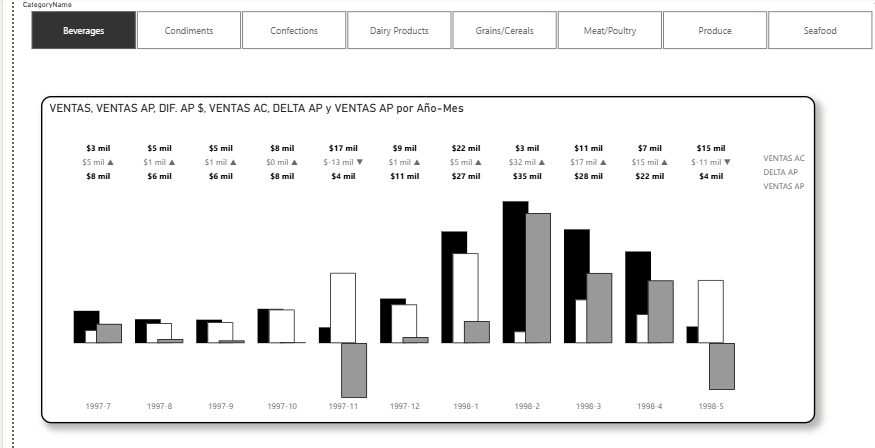

Layout of this report page (visuals, bound fields, positions):
{"tool":"powerbi","page":{"name":"COLUMNAS","canvas":[1280,720],"ordinal":2},"visuals":[{"type":"slicer","fields":{"Values":["Categories.CategoryName"]},"box":[0,0,1280,83.3],"z":0},{"type":"lineClusteredColumnComboChart","fields":{"Category":["CALENDARIO.Año-Mes"],"Y":["MEDIDAS.VENTAS","MEDIDAS.VENTAS AP","MEDIDAS.DIF. AP $"],"Y2":["MEDIDAS.Linea Ficticia","MEDIDAS.Linea Ficticia 2","MEDIDAS.Linea Ficticia 3"]},"box":[39.5,144.9,1132.7,478.5],"z":1000}]}

Visuals, with their boxes on the page's 1280x720 design canvas (x1, y1, x2, y2). These are canvas units, not pixel positions in the 875x448 screenshot, which may show the page scaled, cropped or inside an application window:
slicer - Categories.CategoryName: {"left": 0, "top": 0, "right": 1280, "bottom": 83}
lineClusteredColumnComboChart - CALENDARIO.Año-Mes x MEDIDAS.VENTAS: {"left": 40, "top": 145, "right": 1172, "bottom": 623}
